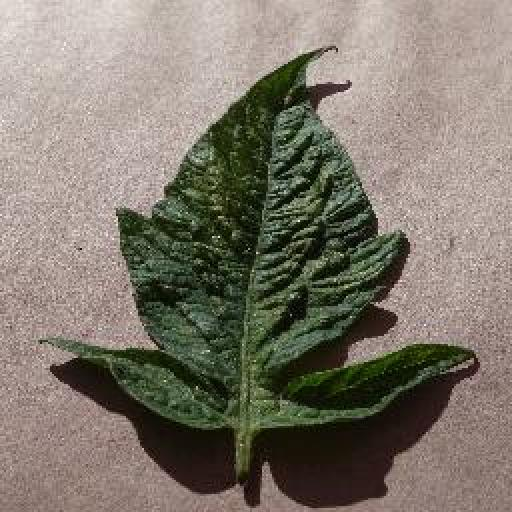disease_tomato: (45, 45, 472, 431)
